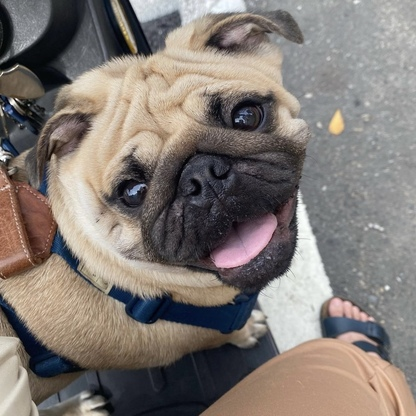Pug: (1, 1, 319, 415)
